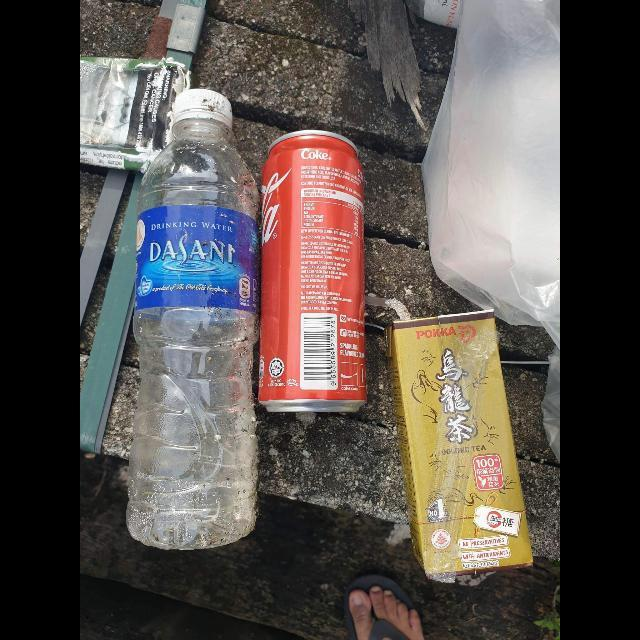aluminum: (258, 130, 368, 416)
plastic_bottle: (126, 90, 260, 552)
